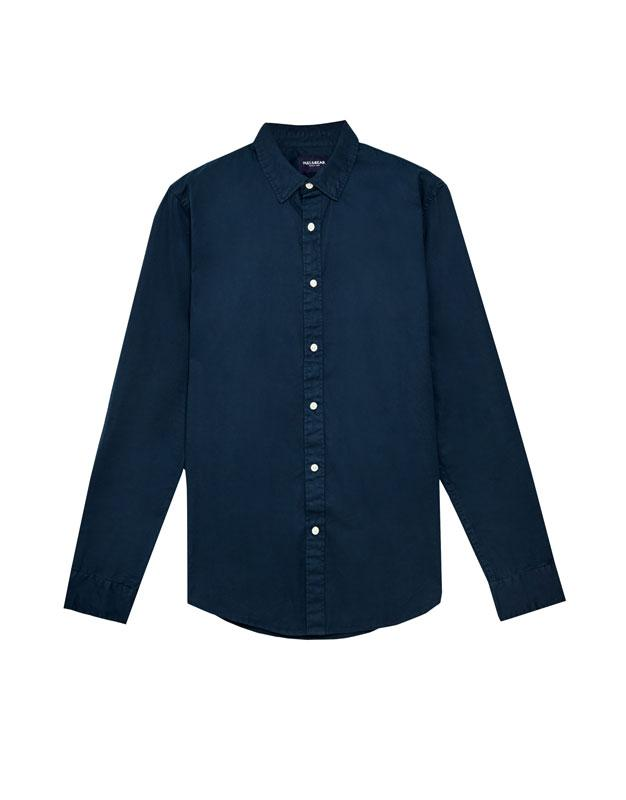teeshirt: (58, 117, 572, 659)
